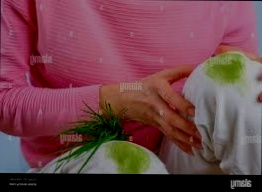earth: (108, 143, 152, 174), (207, 57, 245, 84)
